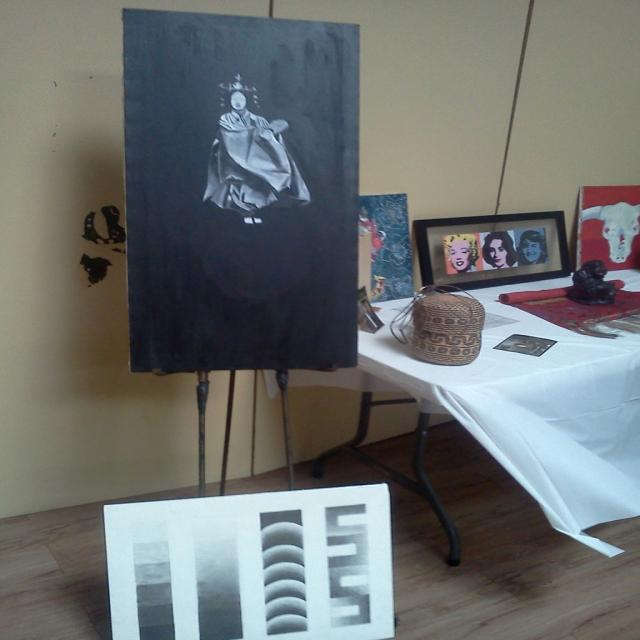desk: (259, 298, 637, 560)
